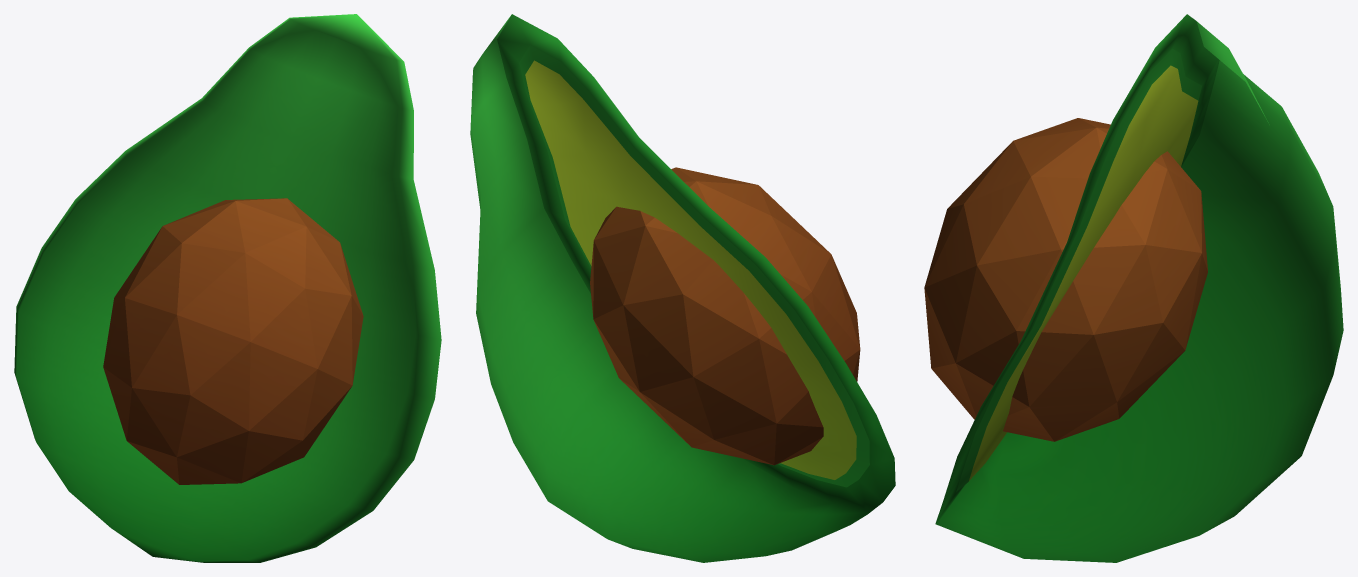
Rendered from Avocado.glb.
3 views of the same model, side by side, from view 1: azimuth 30°, elevation 25°; view 2: azimuth 150°, elevation 25°; view 3: azimuth 270°, elevation 25° (orthographic). The views are drawn at different scales.
Visible parts, largest first — view 1: Plane.001; view 2: Plane.001; view 3: Plane.001.
Boxes of the visible parts, x1,y1,x2,y2 form: Plane.001: (14, 14, 441, 562); Plane.001: (470, 14, 895, 562); Plane.001: (924, 14, 1343, 562).
Bounding box in the file's own units: 1.74 × 2.07 × 1.35.
Materials: 1 (1 with a texture image).
